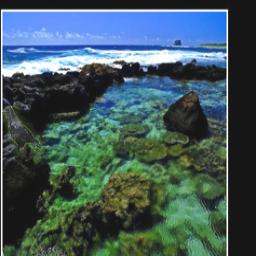Crow: (1, 107, 41, 159)
